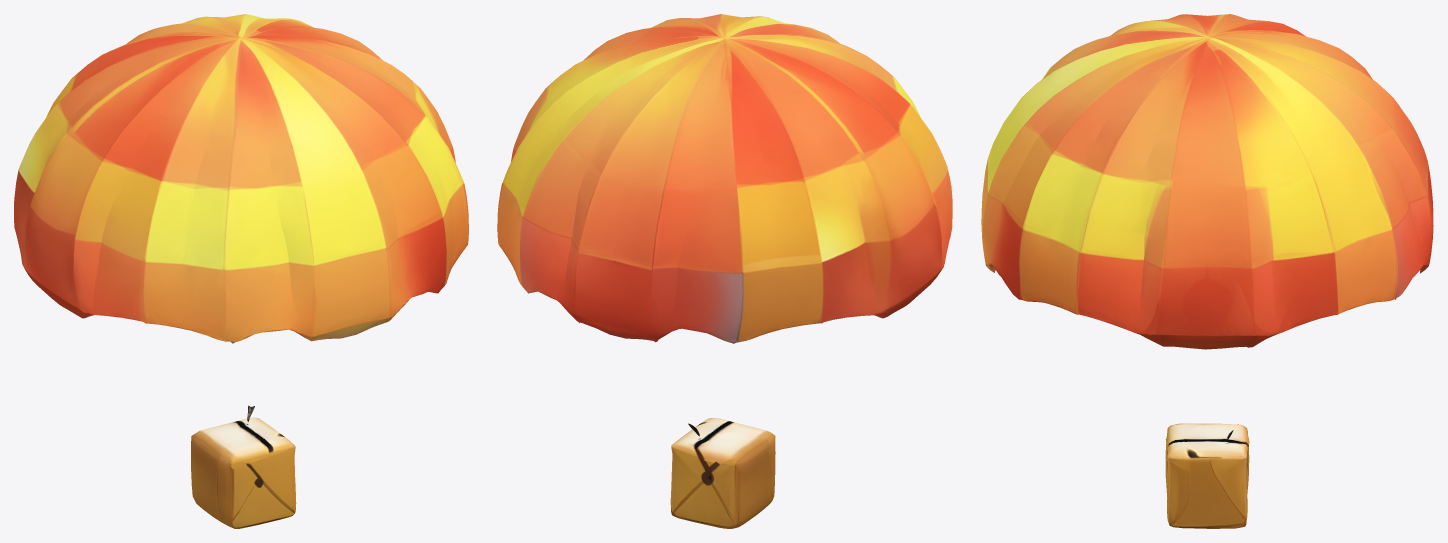
The model's file is parachute.glb.
3 views of the same model, side by side, from view 1: azimuth 30°, elevation 25°; view 2: azimuth 150°, elevation 25°; view 3: azimuth 270°, elevation 25° (orthographic).
Visible parts, largest first — view 1: model; view 2: model; view 3: model.
Part boxes in pixels (x1=…): model: x1=14, y1=14, x2=468, y2=528; model: x1=497, y1=14, x2=952, y2=528; model: x1=981, y1=14, x2=1433, y2=528.
Bounding box in the file's own units: 1.63 × 1.9 × 1.64.
Materials: 1 (1 with a texture image).
